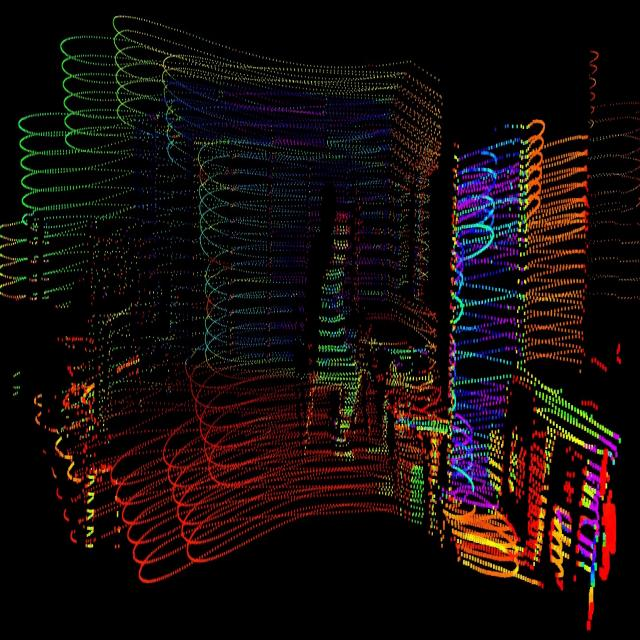human: (316, 199, 367, 464)
